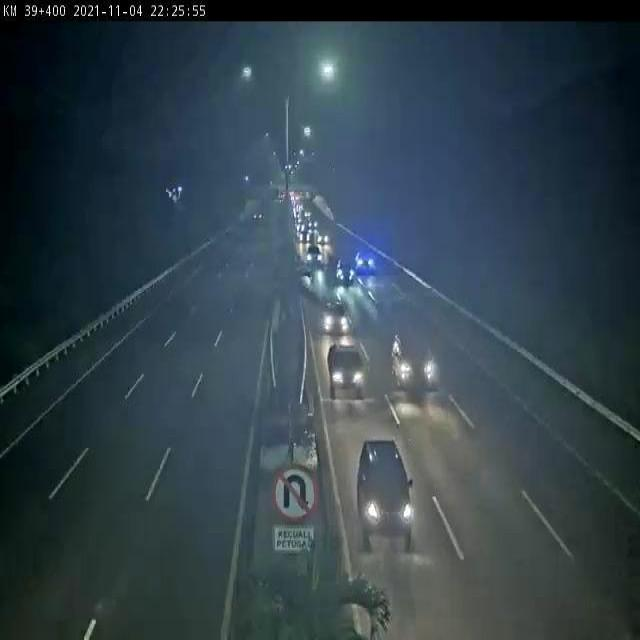car: (349, 432, 424, 557), (393, 329, 448, 400), (325, 340, 375, 403), (318, 295, 361, 337), (353, 246, 380, 282), (305, 264, 332, 292), (335, 253, 357, 286), (248, 204, 272, 229), (304, 244, 325, 268), (317, 229, 334, 247), (297, 227, 313, 245)
